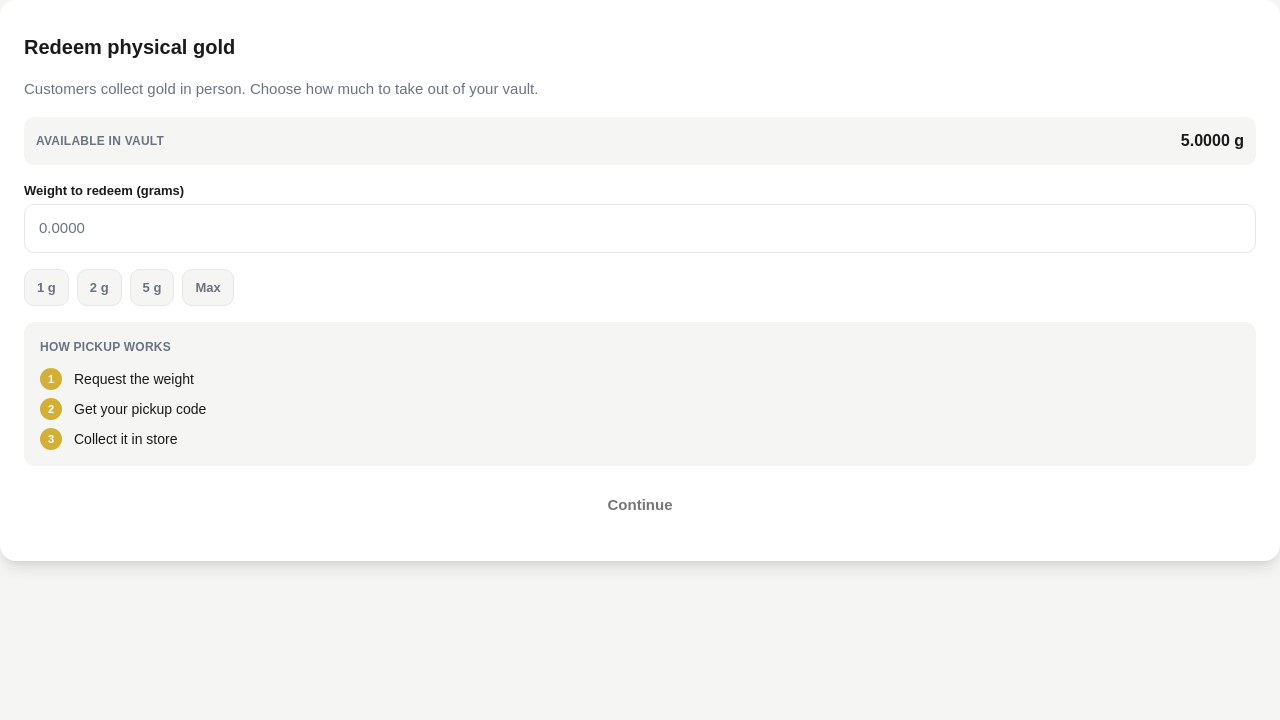
RedeemFlow › rejects a weight with too many decimals
Type "1.23456" into the field labelled "Weight to redeem (grams)".
click(640, 228); type("1.23456")  # box [37,205,1243,252]
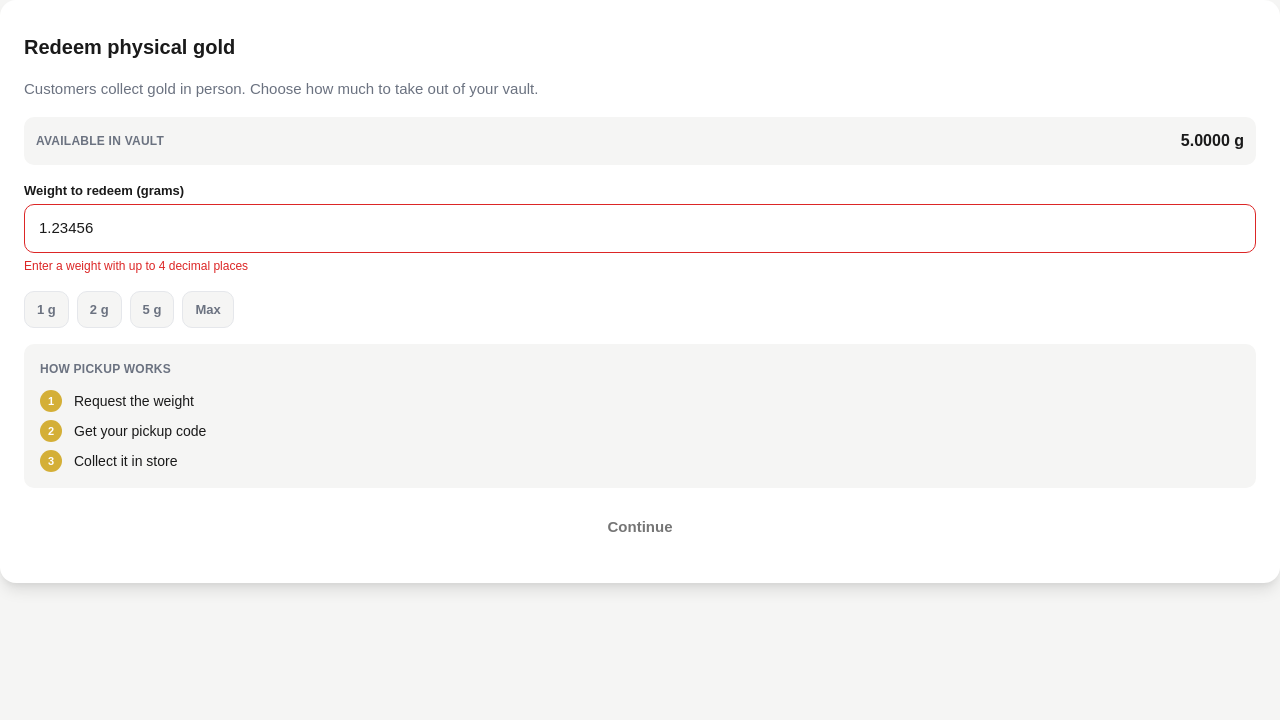
Check: the text "Enter a weight with up to 4 decimal places" is shown, box [24,258,248,272]
